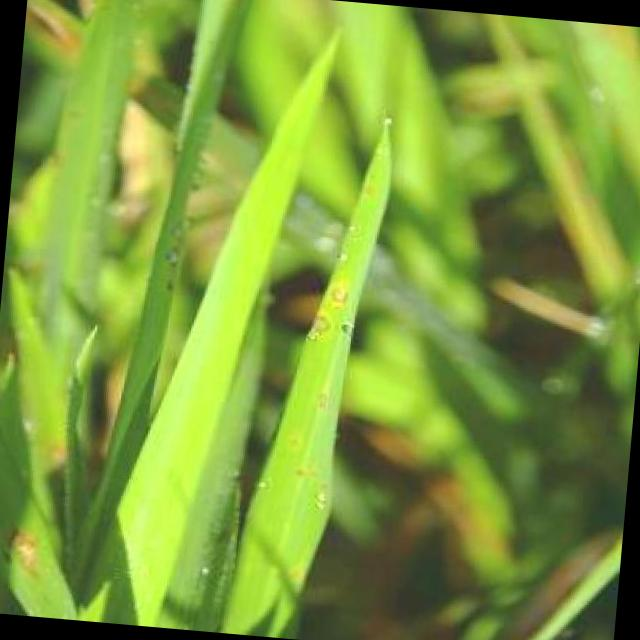Rice_Blast: (280, 297, 342, 358), (314, 253, 376, 314)
